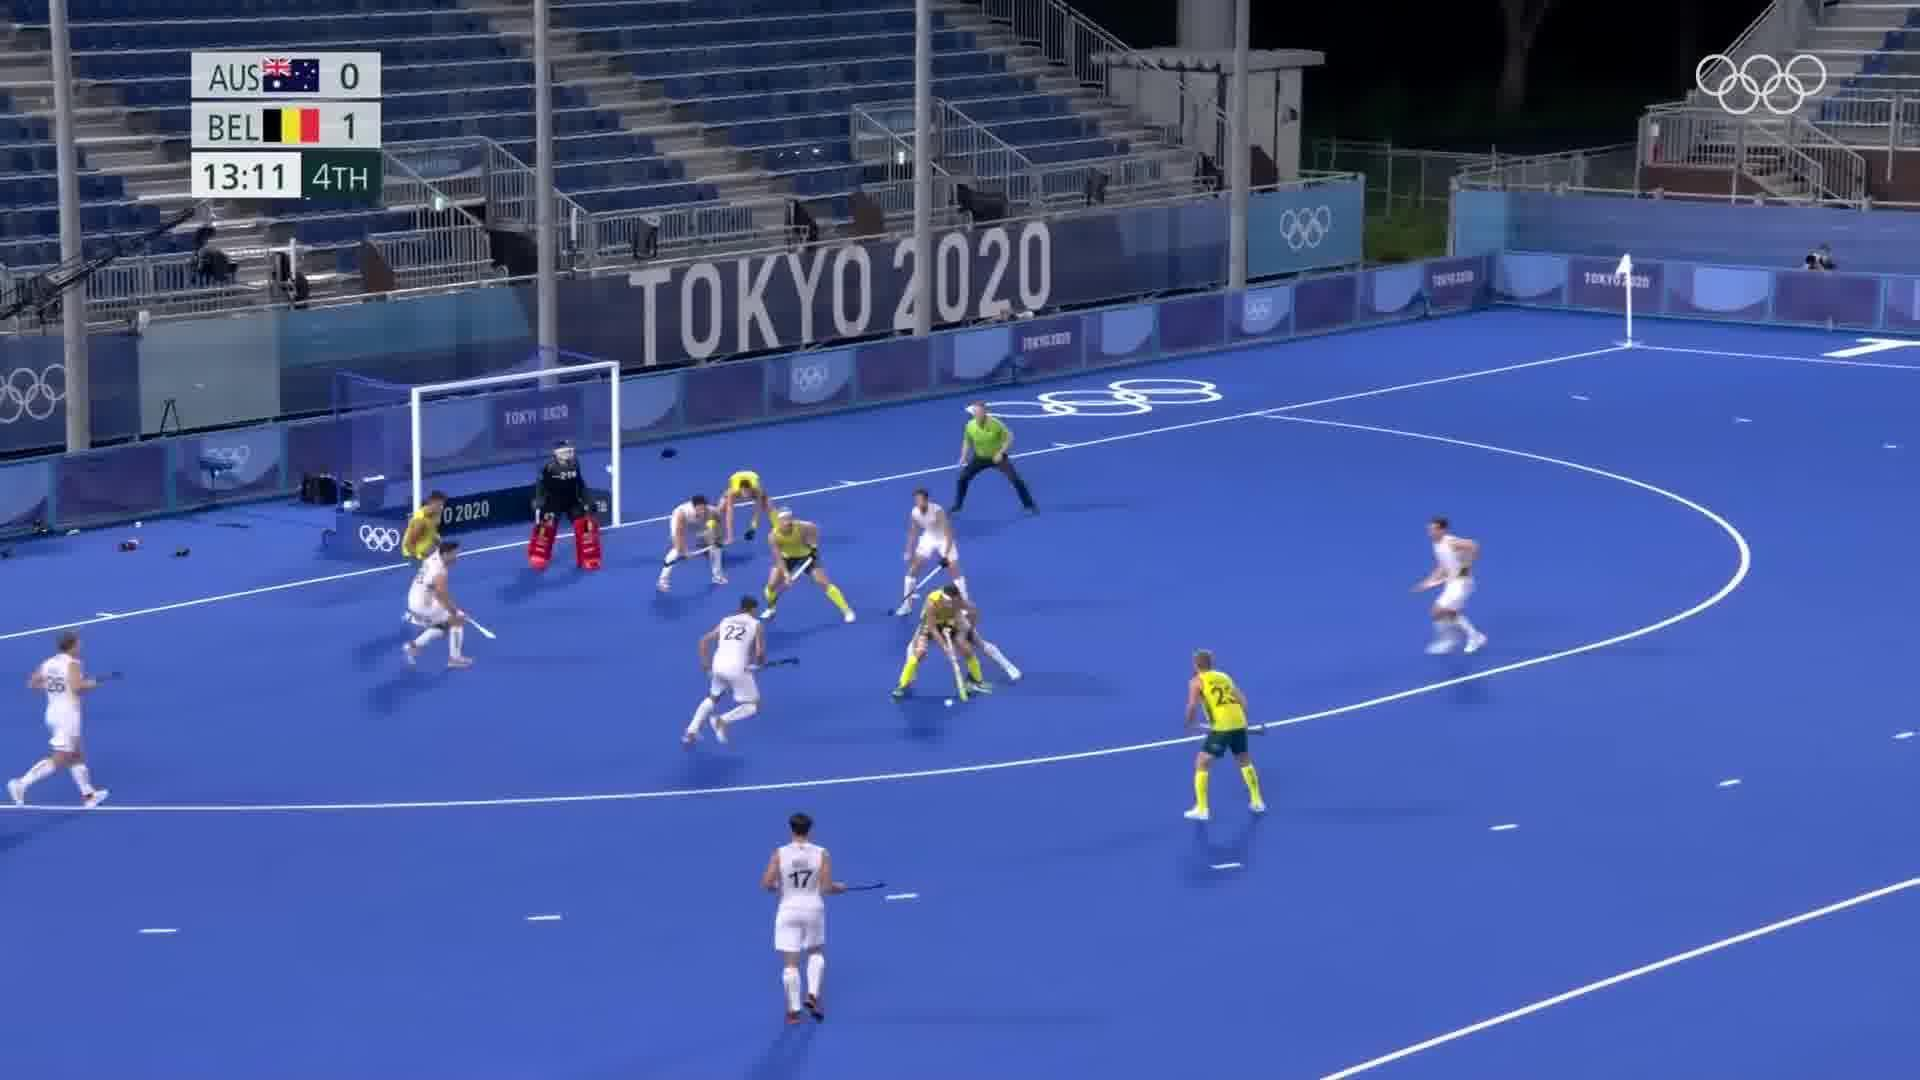ball: (936, 695, 960, 709)
